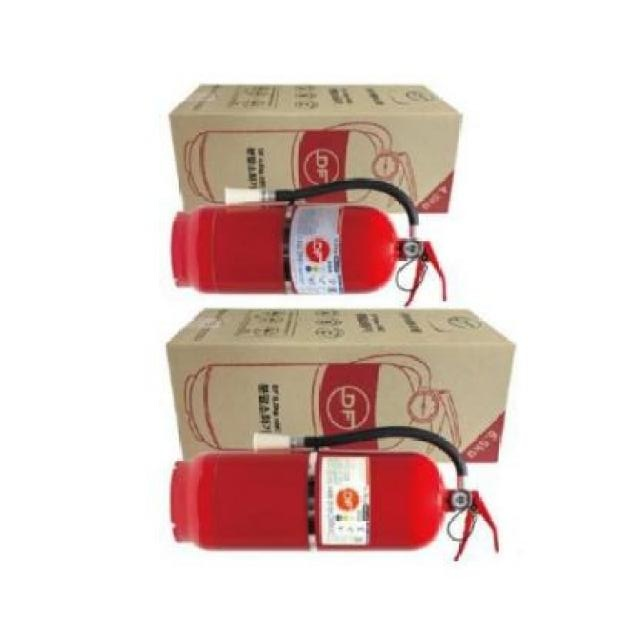fire extinguisher: (170, 425, 501, 563), (169, 177, 448, 308)
